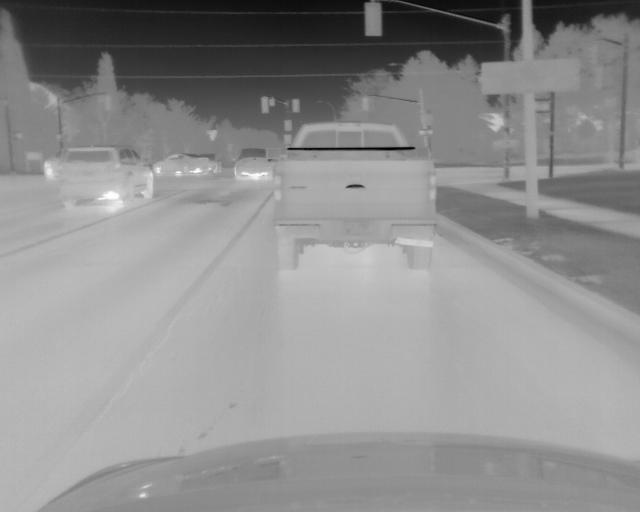car: (271, 118, 438, 270), (45, 145, 154, 210), (156, 151, 221, 177), (234, 146, 273, 176)
